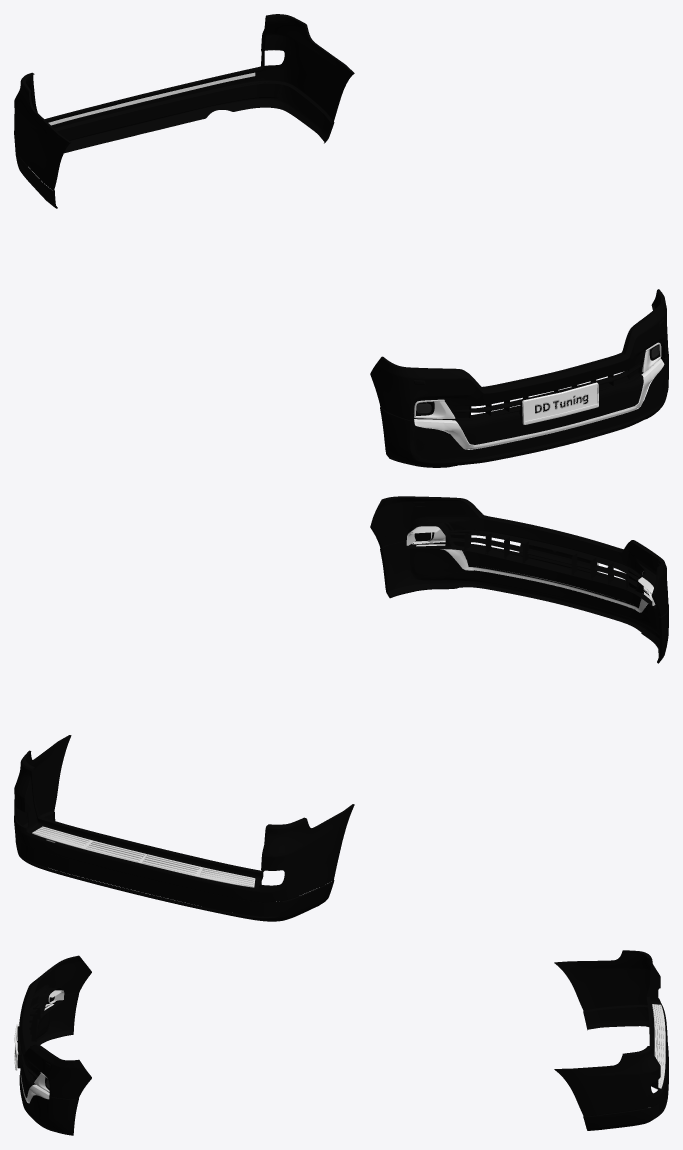
Rendered from юбка2019.glb.
The picture shows the model from 3 angles, top to bottom: view 1: azimuth 30°, elevation 25°; view 2: azimuth 150°, elevation 25°; view 3: azimuth 270°, elevation 25°; orthographic projection. The views are drawn at different scales.
Parts seen in each view (by area): view 1: car, black, chrome, numberplate.1; view 2: car, black, chrome; view 3: car, chrome, black.
Boxes of the visible parts, <box> form: car: <box>14,14,668,467</box>; black: <box>414,341,662,447</box>; chrome: <box>48,72,664,449</box>; numberplate.1: <box>522,382,598,424</box>; car: <box>14,496,668,921</box>; black: <box>406,523,656,608</box>; chrome: <box>32,526,655,887</box>; car: <box>19,950,668,1135</box>; chrome: <box>20,990,665,1103</box>; black: <box>17,988,61,1113</box>.
Bounding box in the file's own units: 2.28 × 0.8212 × 5.83.
Materials: 5 (1 with a texture image).
